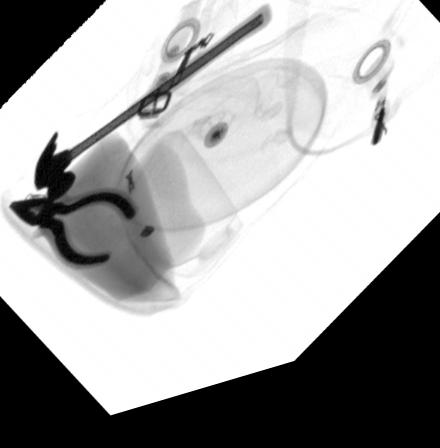Hammer: (33, 18, 273, 204)
Pliers: (10, 192, 139, 275)
